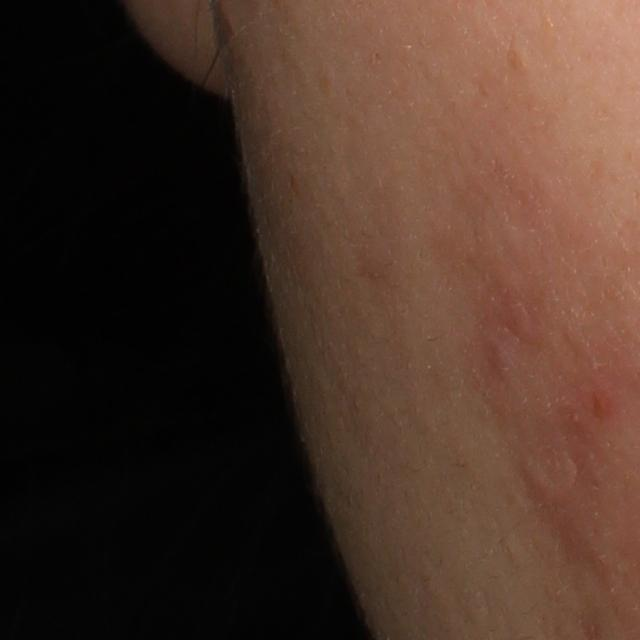comedo: (508, 37, 537, 83)
papule: (588, 389, 615, 424)
